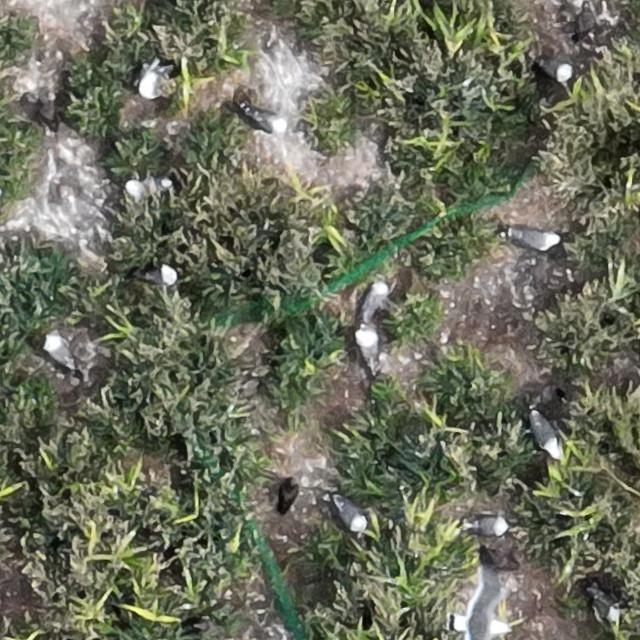F: (448, 564, 509, 638)
umineko: (532, 417, 561, 458), (335, 499, 367, 532), (510, 229, 557, 250), (356, 328, 378, 369), (45, 335, 74, 366), (363, 283, 387, 318), (591, 591, 619, 620), (126, 178, 166, 198), (248, 112, 284, 133), (540, 58, 574, 80), (468, 515, 507, 534), (144, 265, 178, 285), (141, 69, 161, 97)
